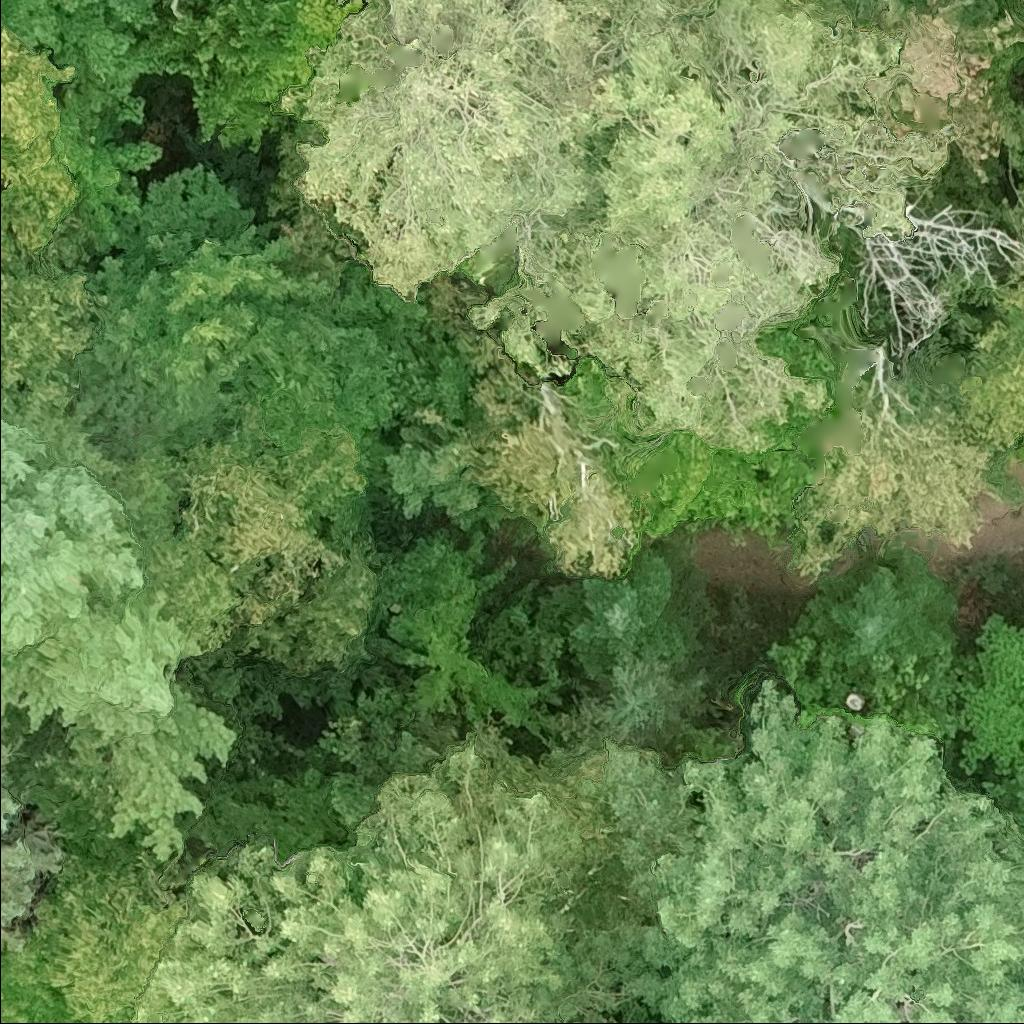crown: (466, 0, 951, 456), (582, 676, 1023, 1023), (135, 735, 635, 1023), (0, 367, 236, 870), (279, 0, 633, 303), (70, 157, 365, 435), (788, 405, 1000, 585), (372, 522, 553, 732), (174, 417, 343, 624), (13, 849, 186, 1023), (469, 413, 648, 581), (868, 0, 1023, 188), (108, 445, 242, 648), (537, 549, 718, 683), (0, 193, 108, 412), (806, 552, 965, 677), (0, 15, 80, 231), (0, 717, 73, 950), (932, 616, 1023, 776), (953, 271, 1023, 456), (0, 945, 69, 1023), (1012, 158, 1023, 239), (857, 0, 878, 25), (339, 0, 347, 1)
